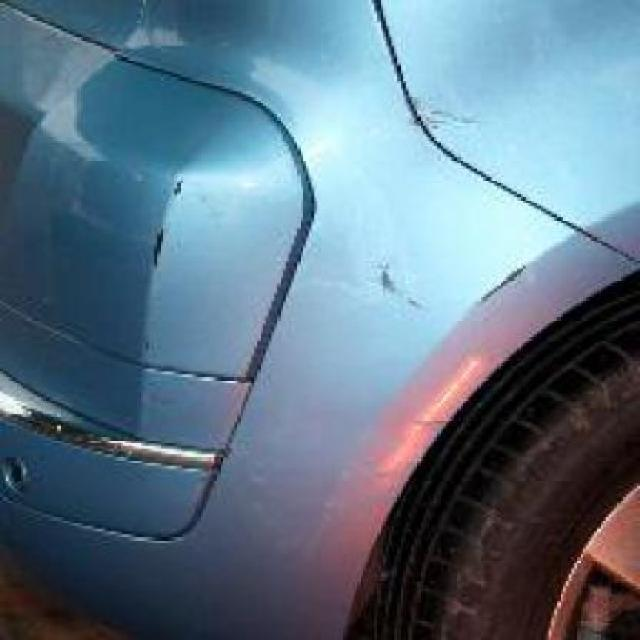dent-or-scratch: (139, 163, 193, 271), (370, 254, 436, 320), (392, 90, 479, 138)
